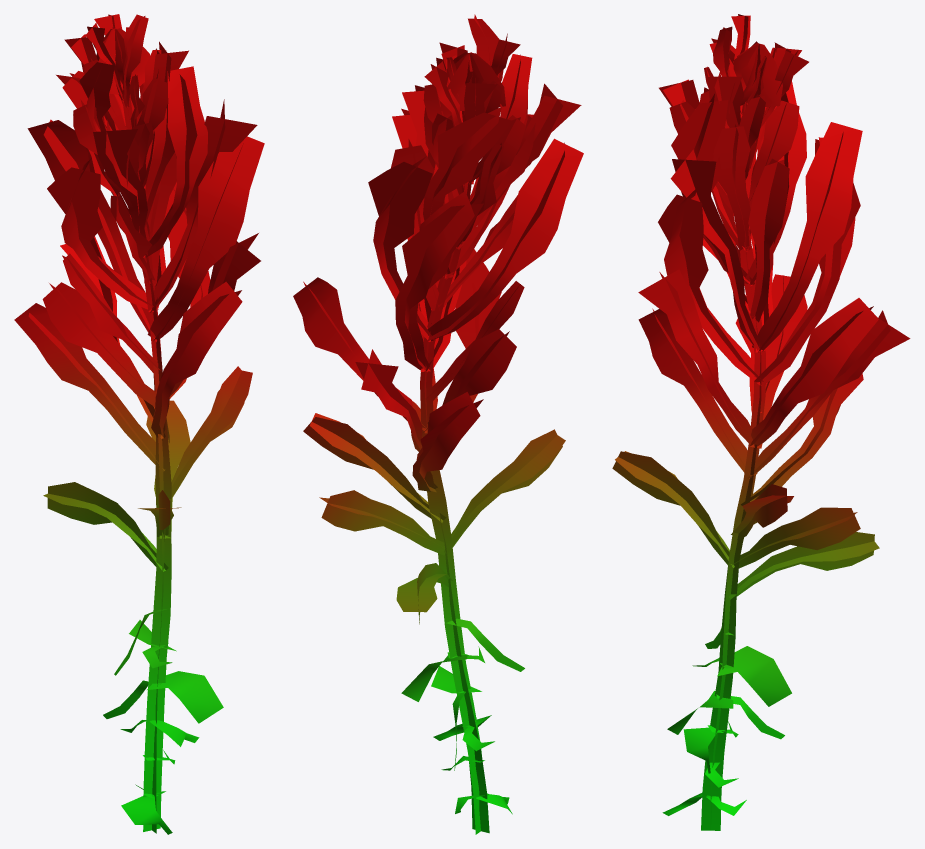
The model's file is Var5_LOD0.fbx.
3 views of the same model, side by side, from view 1: azimuth 30°, elevation 25°; view 2: azimuth 150°, elevation 25°; view 3: azimuth 270°, elevation 25° (orthographic). The views are drawn at different scales.
Parts seen in each view (by area): view 1: _0d3b_Var5_LOD0; view 2: _0d3b_Var5_LOD0; view 3: _0d3b_Var5_LOD0.
Boxes of the visible parts, x1,y1,x2,y2 form: _0d3b_Var5_LOD0: [14, 14, 264, 834]; _0d3b_Var5_LOD0: [293, 14, 583, 834]; _0d3b_Var5_LOD0: [612, 14, 910, 830].
Size of the model in its own units: 26.87 by 92.61 by 31.19.
